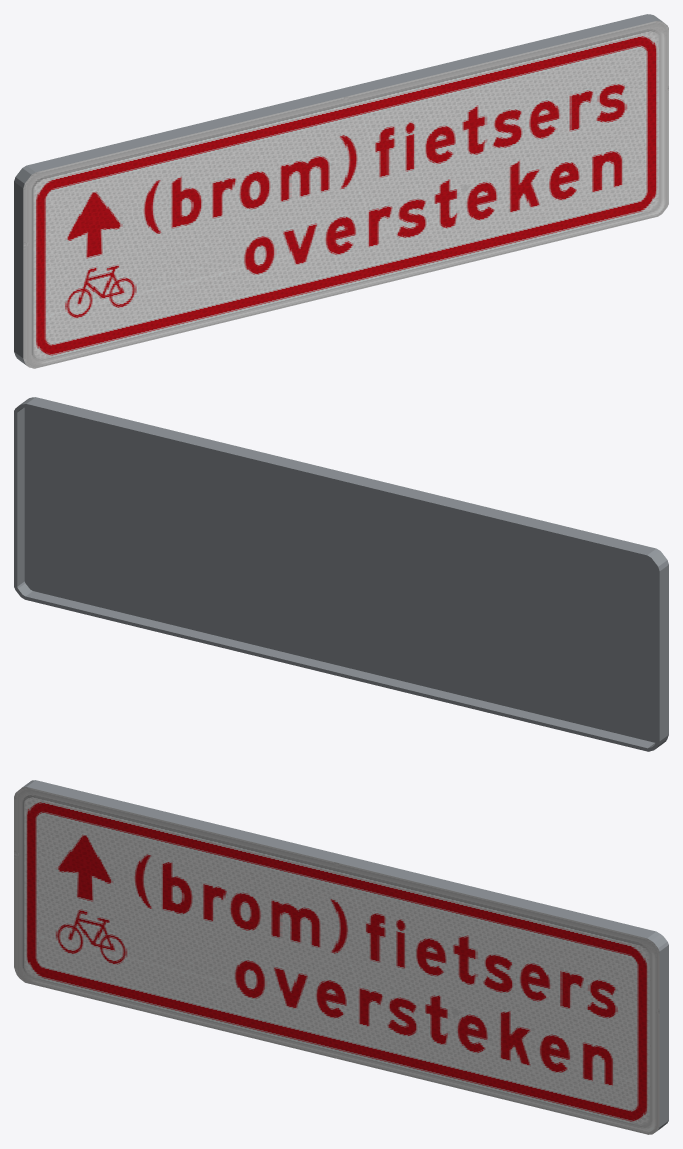
3 views of the same model, one above another, from view 1: azimuth 30°, elevation 25°; view 2: azimuth 150°, elevation 25°; view 3: azimuth 330°, elevation 25° (orthographic).
Visible parts, largest first — view 1: cat_d951a60906c6345a; view 2: cat_d951a60906c6345a; view 3: cat_d951a60906c6345a.
Boxes of the visible parts, box(x1,y1,x2,y2) form: cat_d951a60906c6345a: box(14, 14, 668, 368); cat_d951a60906c6345a: box(14, 397, 668, 751); cat_d951a60906c6345a: box(14, 780, 668, 1134).
Bounding box in the file's own units: 0.6 × 0.015 × 0.1742.
2 materials, 1 textured.
